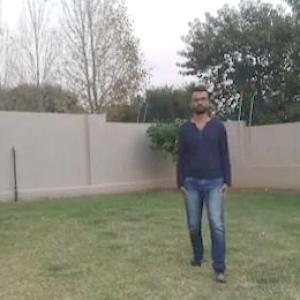follow: (182, 81, 231, 274)
